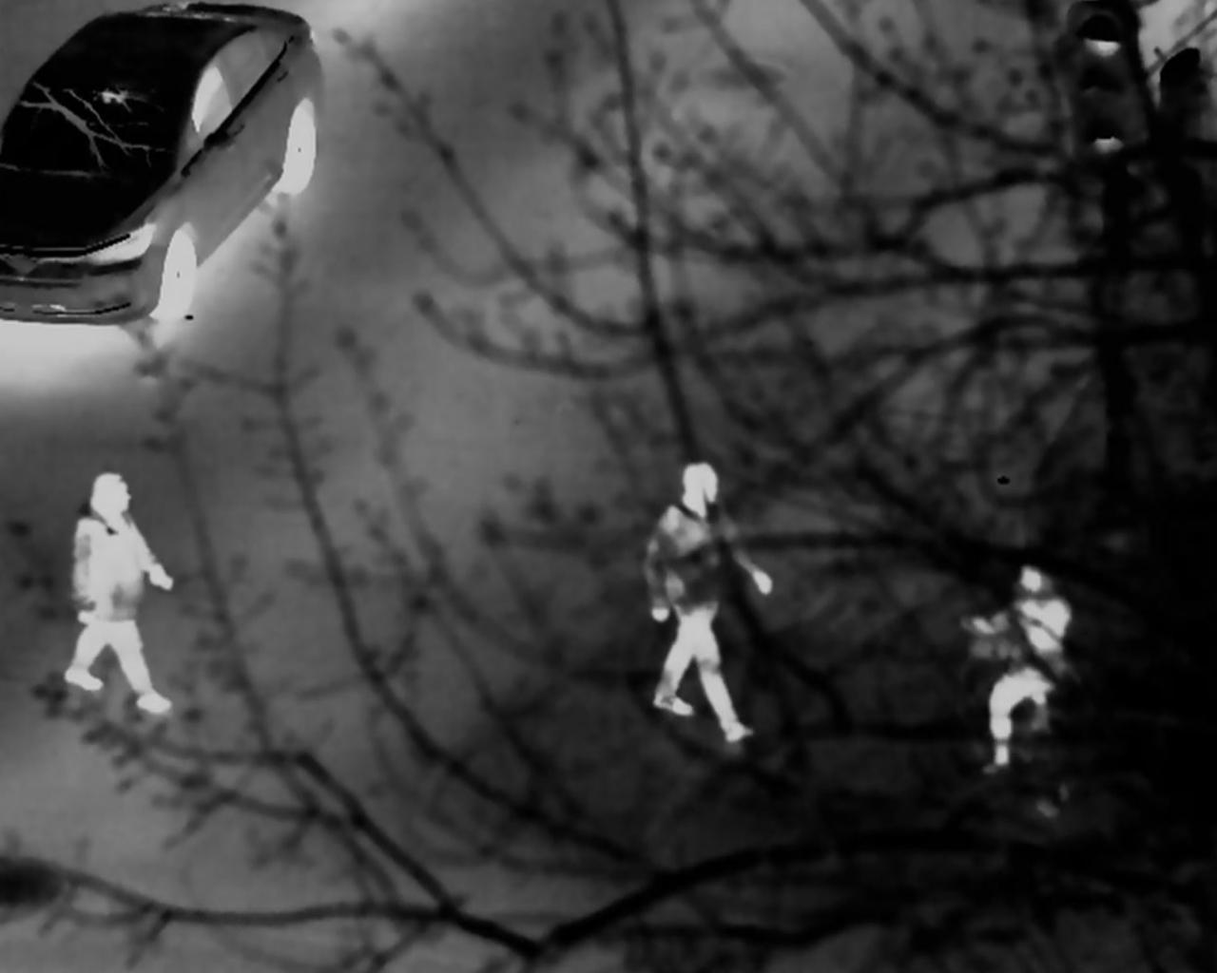person: (643, 456, 770, 754), (73, 471, 179, 709), (980, 553, 1071, 776)
